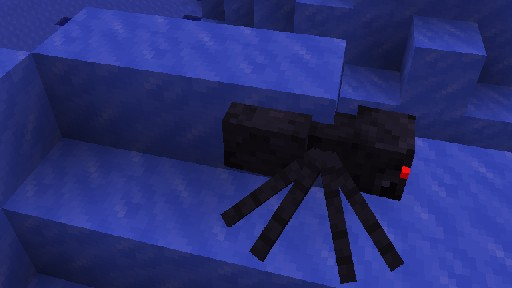spider: (219, 79, 415, 283)
